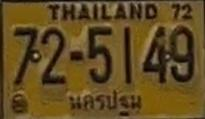1: (122, 26, 130, 84)
2: (40, 27, 64, 84)
4: (142, 26, 166, 82)
5: (87, 26, 111, 83)
7: (12, 26, 37, 85)
9: (168, 26, 193, 82)
NPT: (66, 90, 143, 118)
